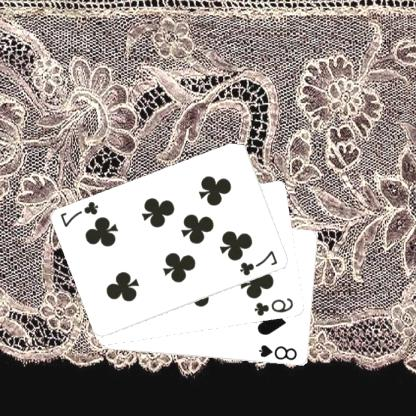6C: (254, 295, 296, 318)
7C: (59, 198, 102, 228), (239, 248, 281, 278)
8S: (258, 343, 300, 361)
